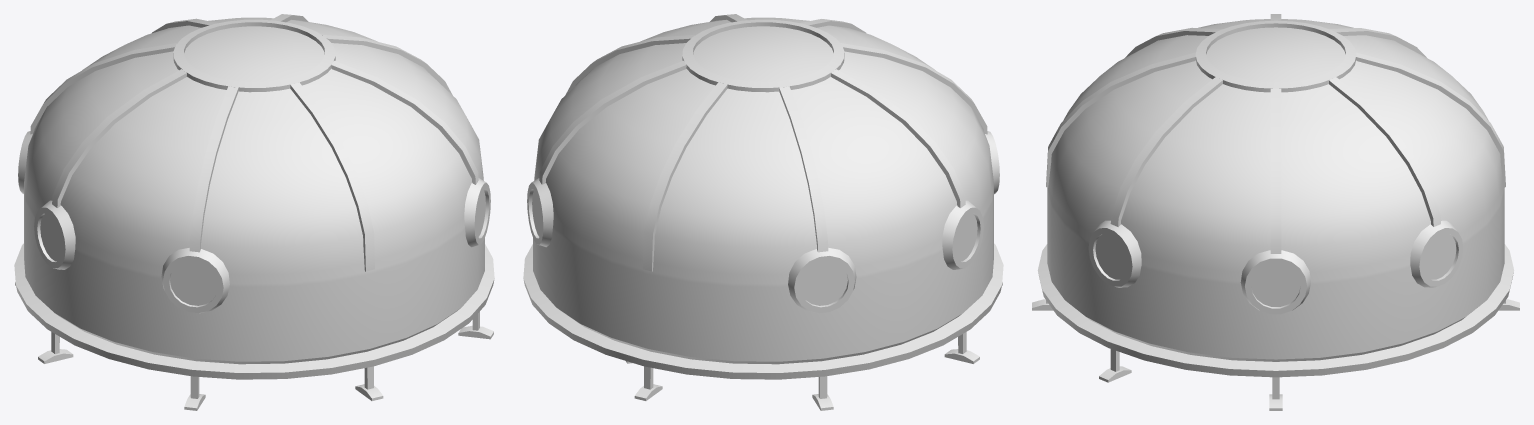
Rendered from command_hub.glb.
3 views of the same model, side by side, from view 1: azimuth 30°, elevation 25°; view 2: azimuth 150°, elevation 25°; view 3: azimuth 270°, elevation 25° (orthographic).
Visible parts, largest first — view 1: Body; view 2: Body; view 3: Body.
Boxes of the visible parts, x1=… form: Body: x1=14, y1=14, x2=494, y2=410; Body: x1=523, y1=14, x2=1003, y2=410; Body: x1=1032, y1=14, x2=1519, y2=410.
Bounding box in the file's own units: 20 × 11.66 × 20.
1 material, 1 textured.
